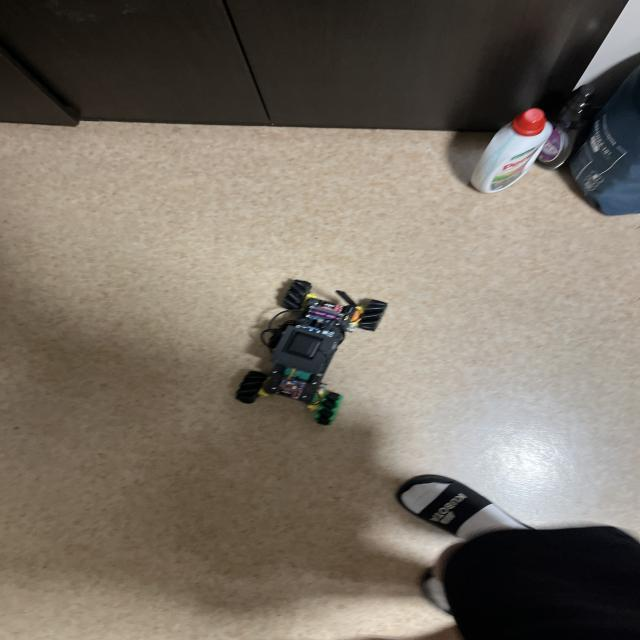robot: (236, 279, 387, 425)
